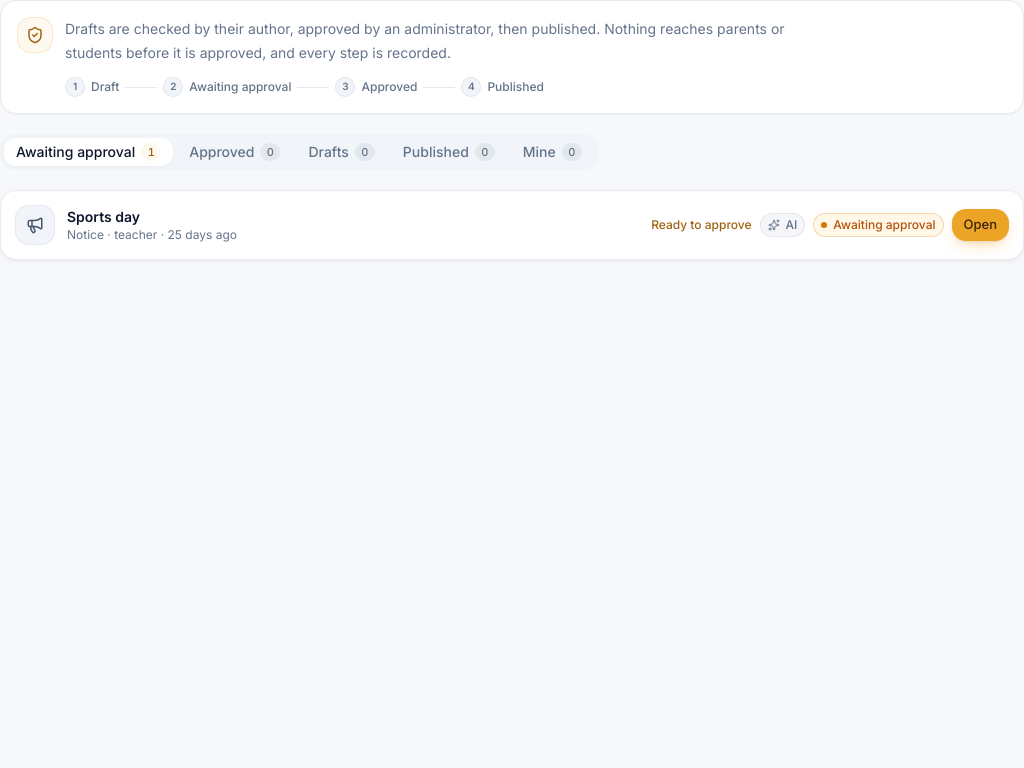
ContentReviewTab › lists the approval queue and shows only the actions the server allows
The width and height of the screenshot is (1024, 768).
Step 1. Click the button "Open" → (980, 225), box [952,209,1009,241]
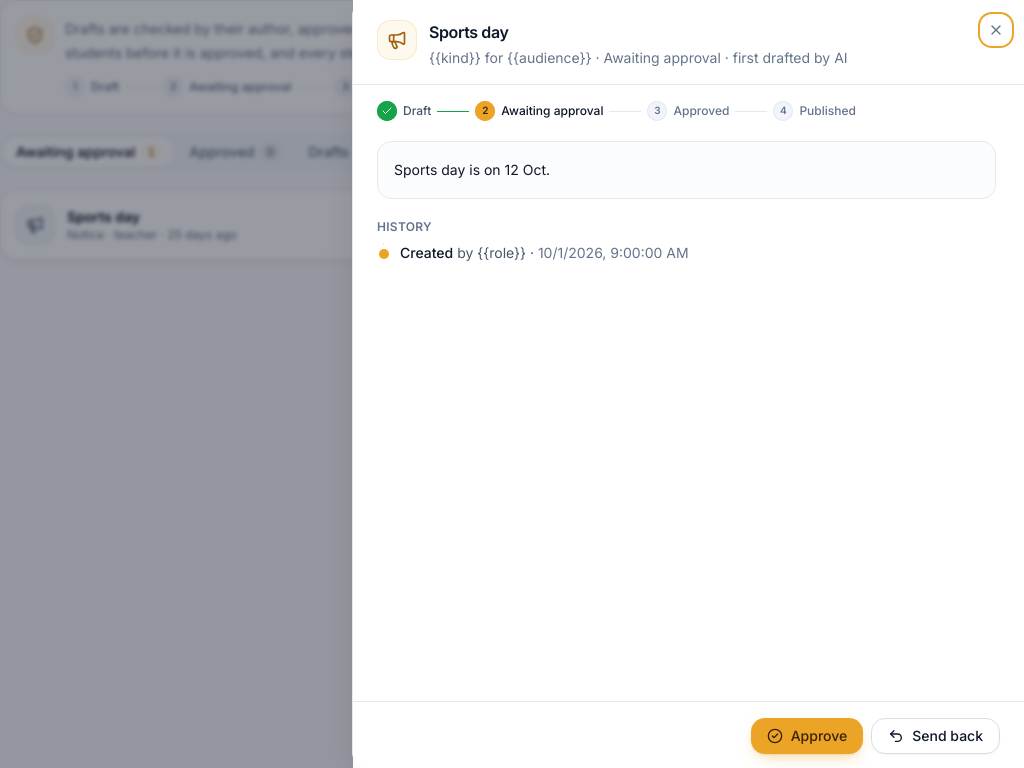
Result: the text "Sports day is on 12 Oct." is shown at [377,141,996,199]
Step 2. Click the button "Approve" → (807, 736), box [751,718,863,754]
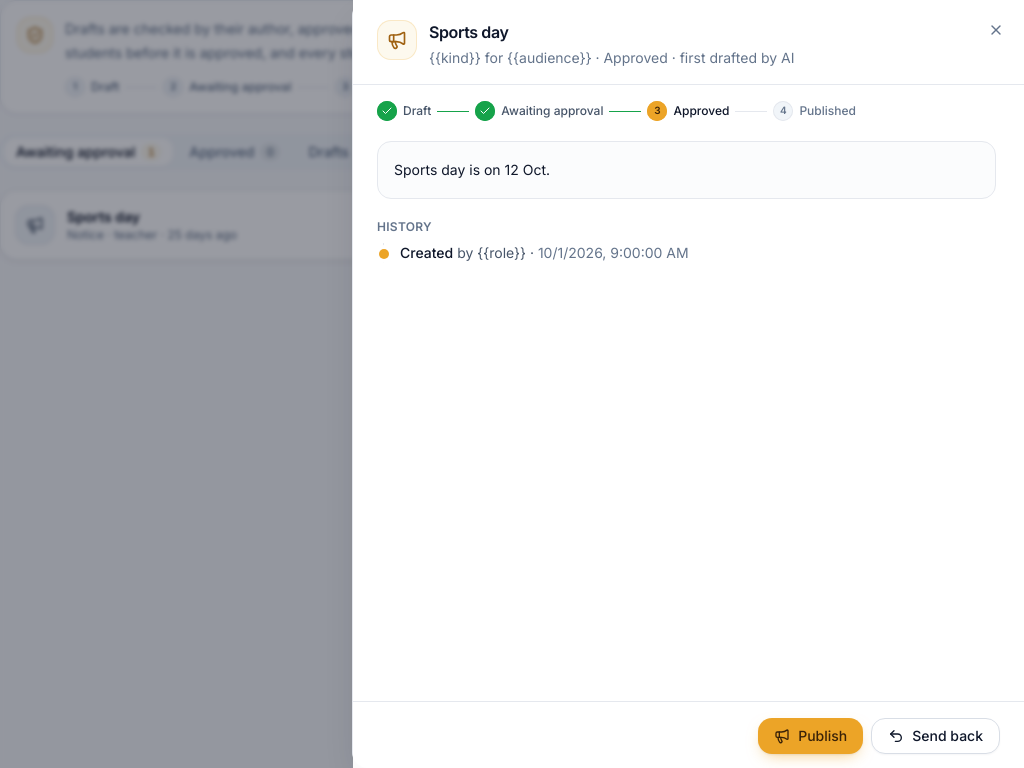
Result: the button "Publish" is shown at [758,718,863,754]
